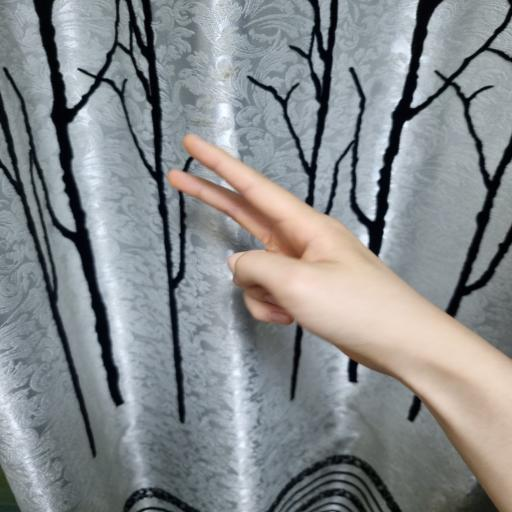Scissors: (167, 134, 444, 378)
